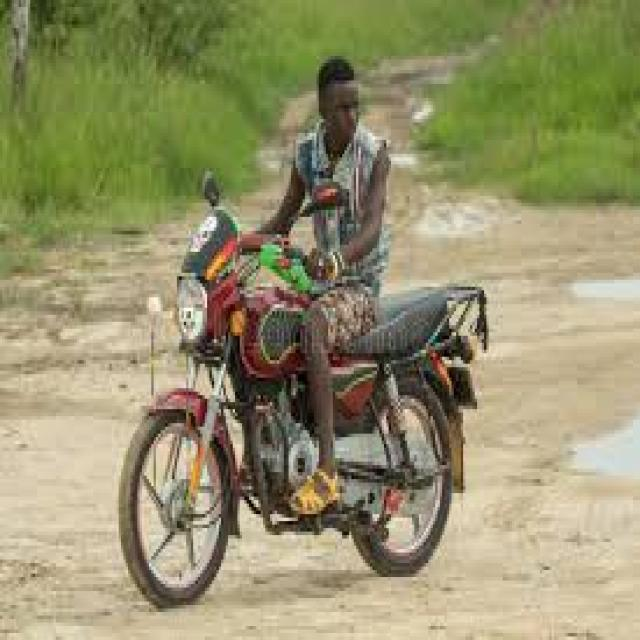bodaboda: (79, 160, 535, 623)
